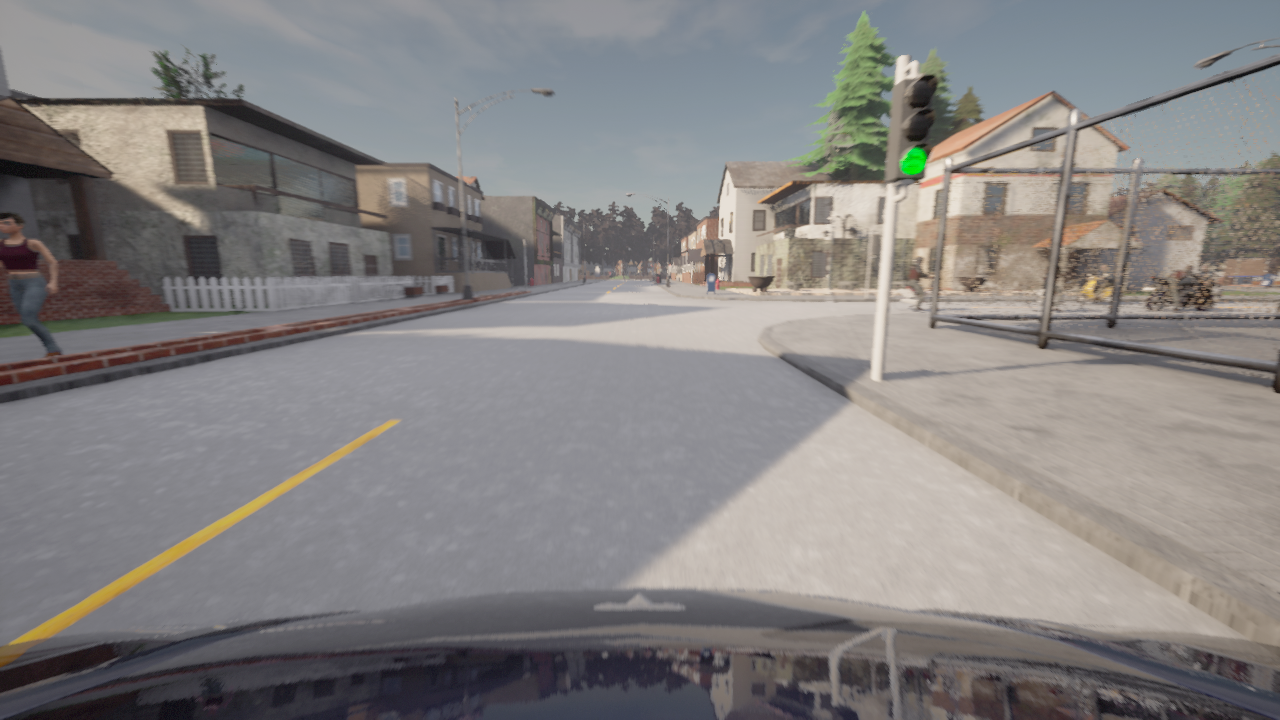cyclist: (0, 588, 1279, 719), (1143, 273, 1219, 310), (1028, 277, 1083, 311), (893, 276, 948, 310), (1076, 273, 1123, 303), (1207, 273, 1222, 303)
